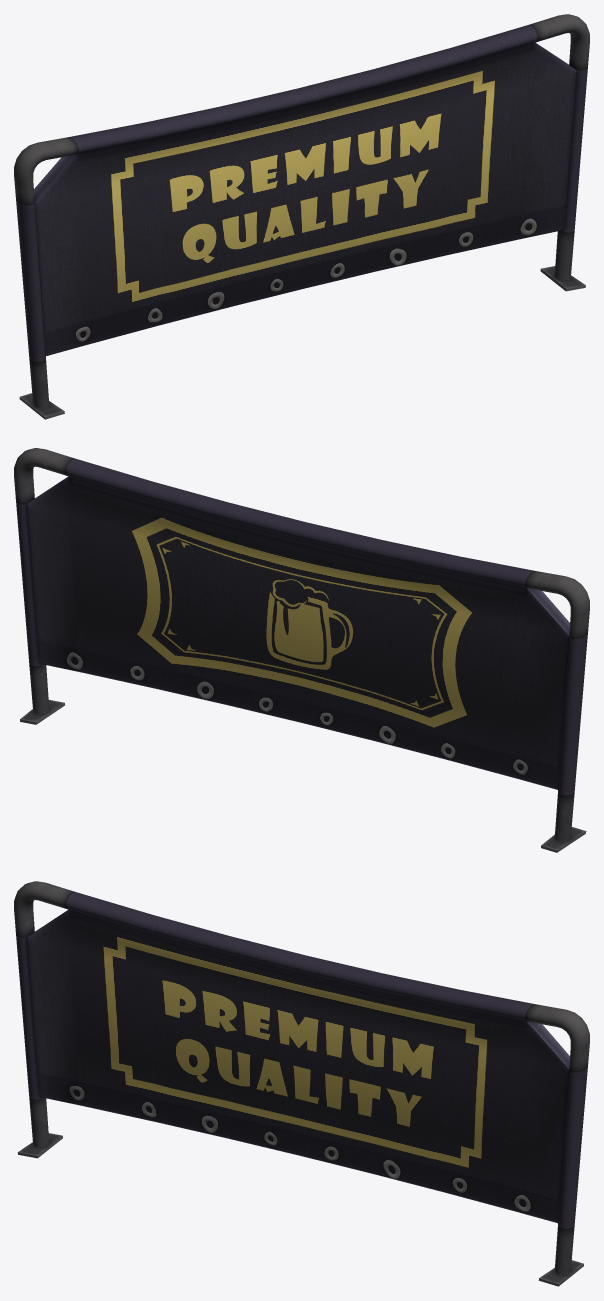
Rendered from StreetCafeBarrier01_1.FBX.
The picture shows the model from 3 angles, top to bottom: view 1: azimuth 30°, elevation 25°; view 2: azimuth 150°, elevation 25°; view 3: azimuth 330°, elevation 25°; orthographic projection.
Visible parts, largest first — view 1: StreetCafeBarrier01_1; view 2: StreetCafeBarrier01_1; view 3: StreetCafeBarrier01_1.
Part boxes in pixels (x1,y1,x2,y2): StreetCafeBarrier01_1: [14, 14, 589, 419]; StreetCafeBarrier01_1: [14, 448, 589, 852]; StreetCafeBarrier01_1: [14, 881, 589, 1286].
Size of what is drawn, in the model's own units: 2.54 by 1.12 by 0.21.
